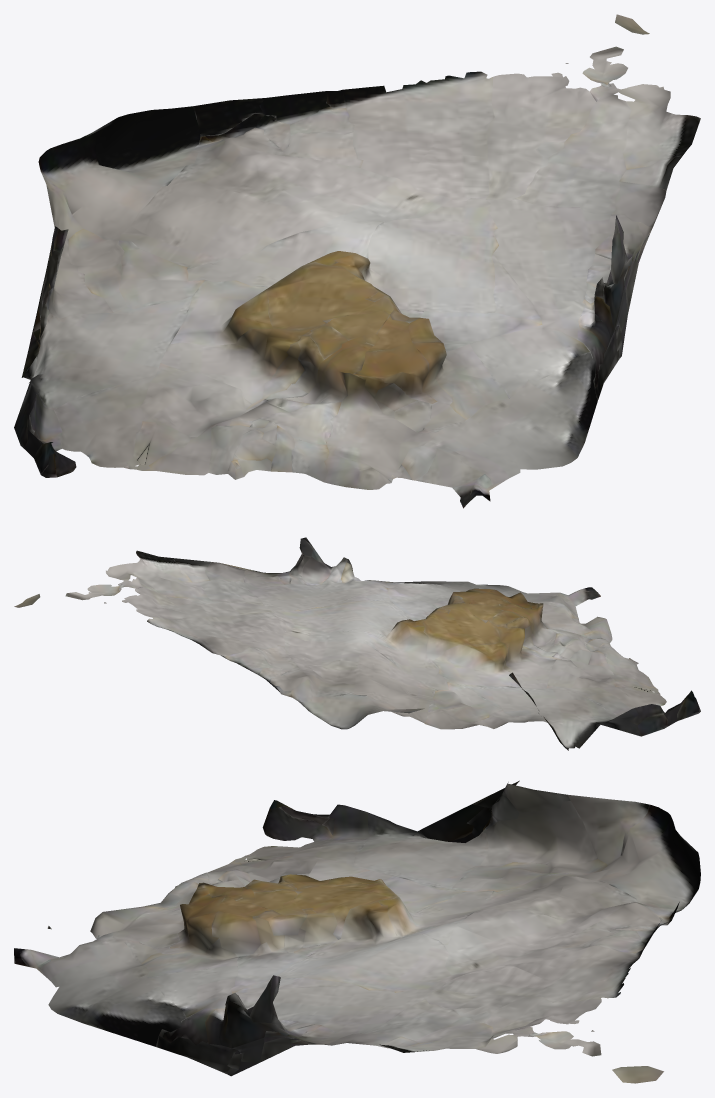
The model's file is hall.glb.
3 views of the same model, one above another, from view 1: azimuth 30°, elevation 25°; view 2: azimuth 150°, elevation 25°; view 3: azimuth 270°, elevation 25° (orthographic). The views are drawn at different scales.
Size of the model in its own units: 0.7846 by 0.1101 by 0.6294.
Materials: 1 (1 with a texture image).
